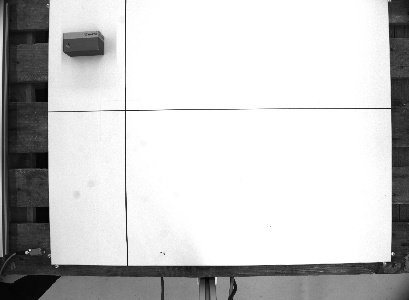b3: (58, 28, 106, 58)
